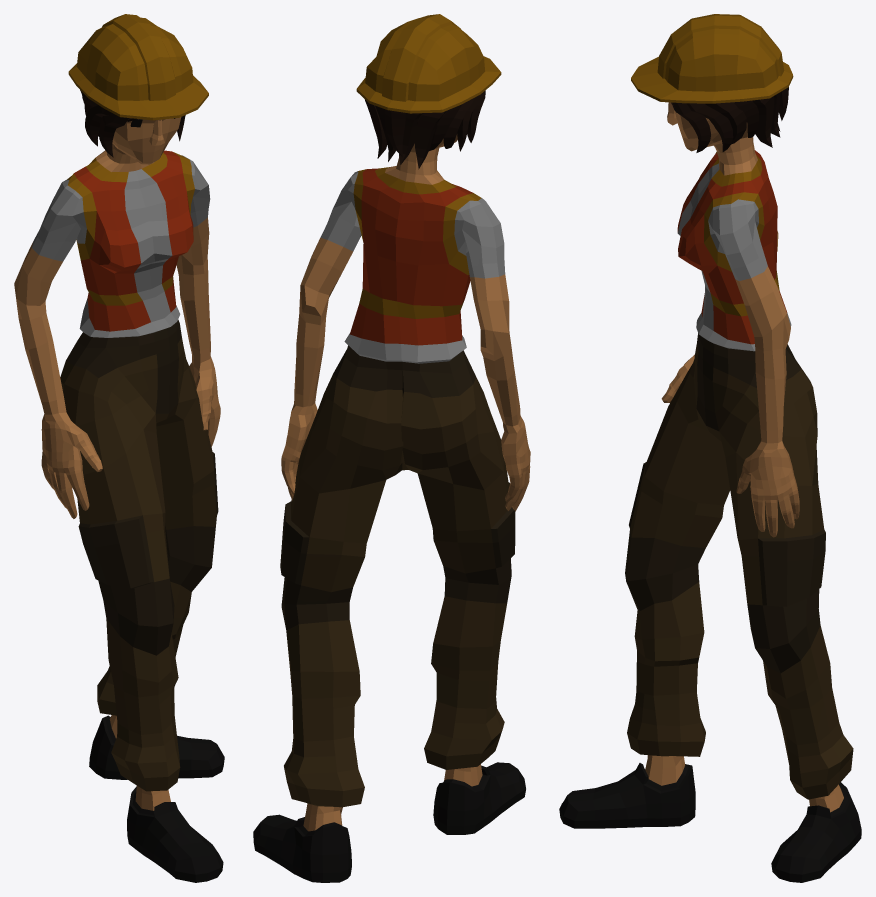
3 renders of one model, left to right at view 1: azimuth 30°, elevation 25°; view 2: azimuth 150°, elevation 25°; view 3: azimuth 270°, elevation 25°, orthographic. The views are drawn at different scales.
Parts seen in each view (by area): view 1: Worker_Legs_static, Worker_Body_static, Worker_Head_static, Worker_Feet_static; view 2: Worker_Legs_static, Worker_Body_static, Worker_Head_static, Worker_Feet_static; view 3: Worker_Legs_static, Worker_Body_static, Worker_Head_static, Worker_Feet_static.
Boxes of the visible parts, box(x1,y1,x2,y2) form: Worker_Legs_static: box(60, 319, 218, 791); Worker_Body_static: box(14, 150, 220, 518); Worker_Head_static: box(68, 14, 208, 164); Worker_Feet_static: box(89, 715, 224, 882); Worker_Legs_static: box(280, 345, 515, 807); Worker_Body_static: box(281, 166, 530, 511); Worker_Head_static: box(356, 14, 501, 175); Worker_Feet_static: box(253, 762, 525, 882); Worker_Legs_static: box(625, 333, 853, 799); Worker_Body_static: box(661, 150, 799, 537); Worker_Head_static: box(631, 14, 793, 164); Worker_Feet_static: box(559, 755, 861, 882).
Bounding box in the file's own units: 0.5378 × 1.82 × 0.6169.
